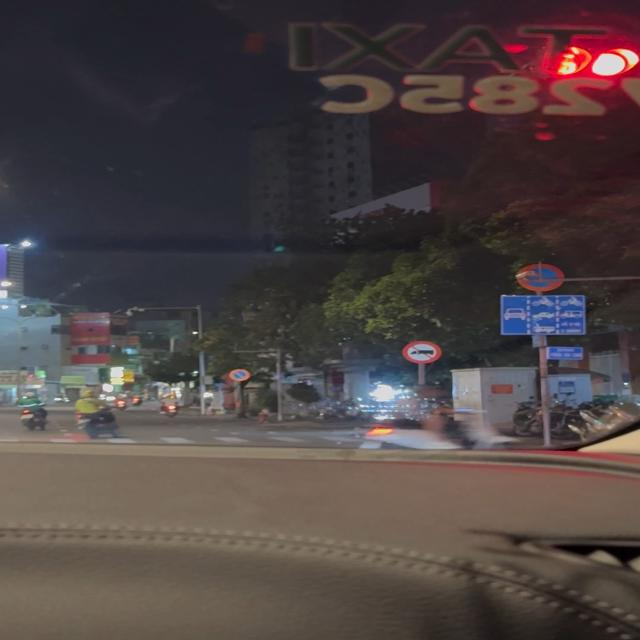Bien bao cam xe so-mi ro-mooc: (400, 338, 444, 365)
